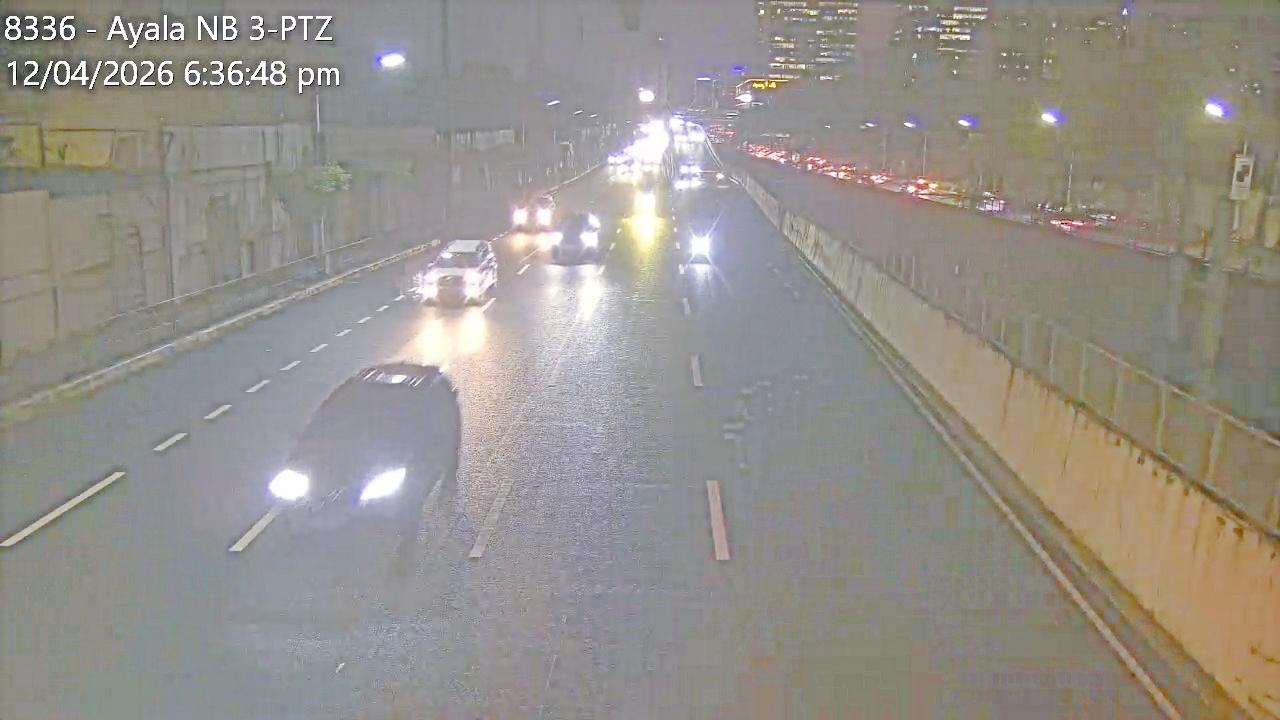Car: (274, 358, 460, 544), (418, 240, 501, 308), (547, 210, 600, 263), (509, 192, 555, 236)
Motor: (683, 226, 715, 268)
Not Accident: (510, 194, 600, 268)
